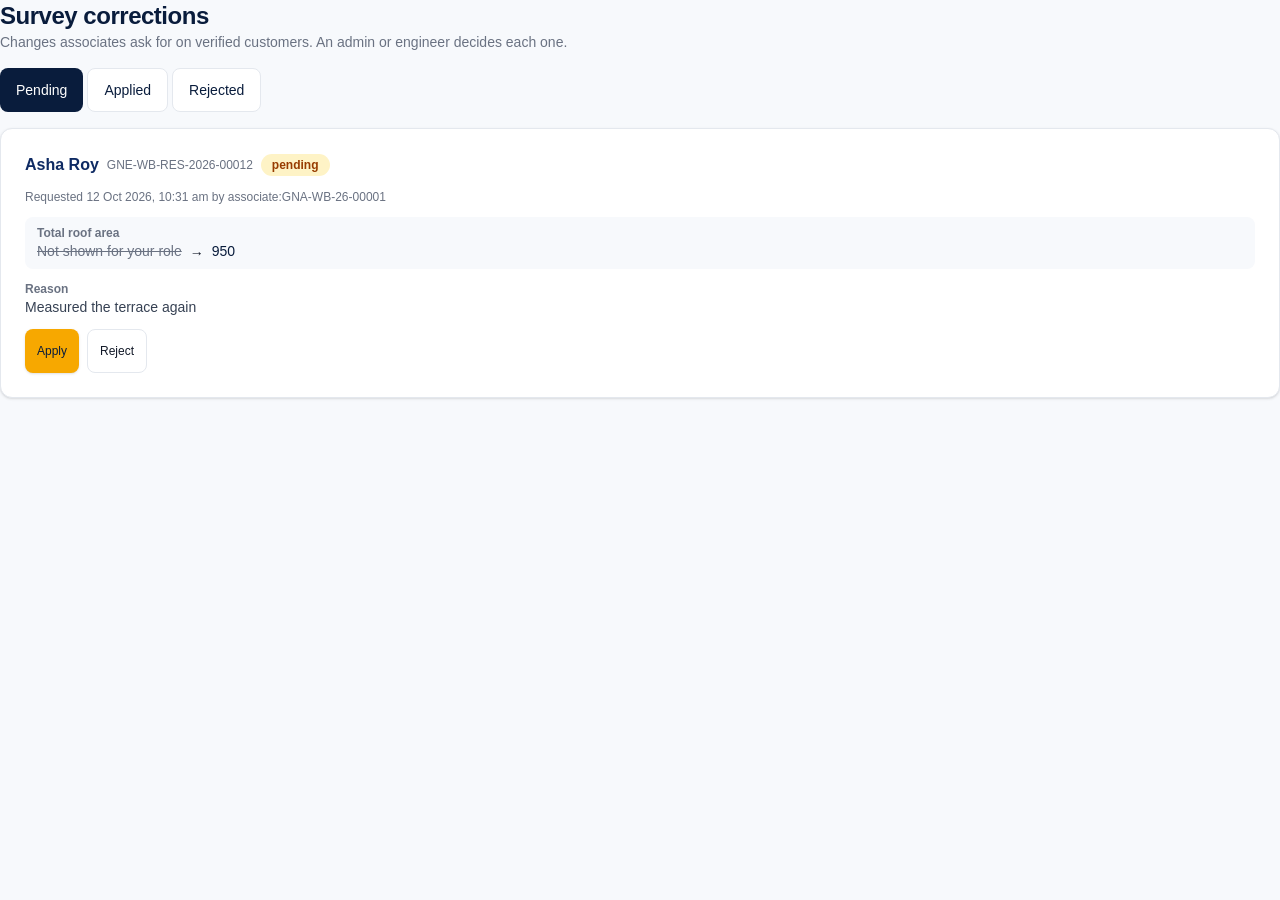
Test case: Survey corrections queue › maps the 403 segregation_of_duties and 409 correction_not_pending errors to plain sentences
Click the button "Apply". click: [52, 351]
box: [25, 329, 79, 373]
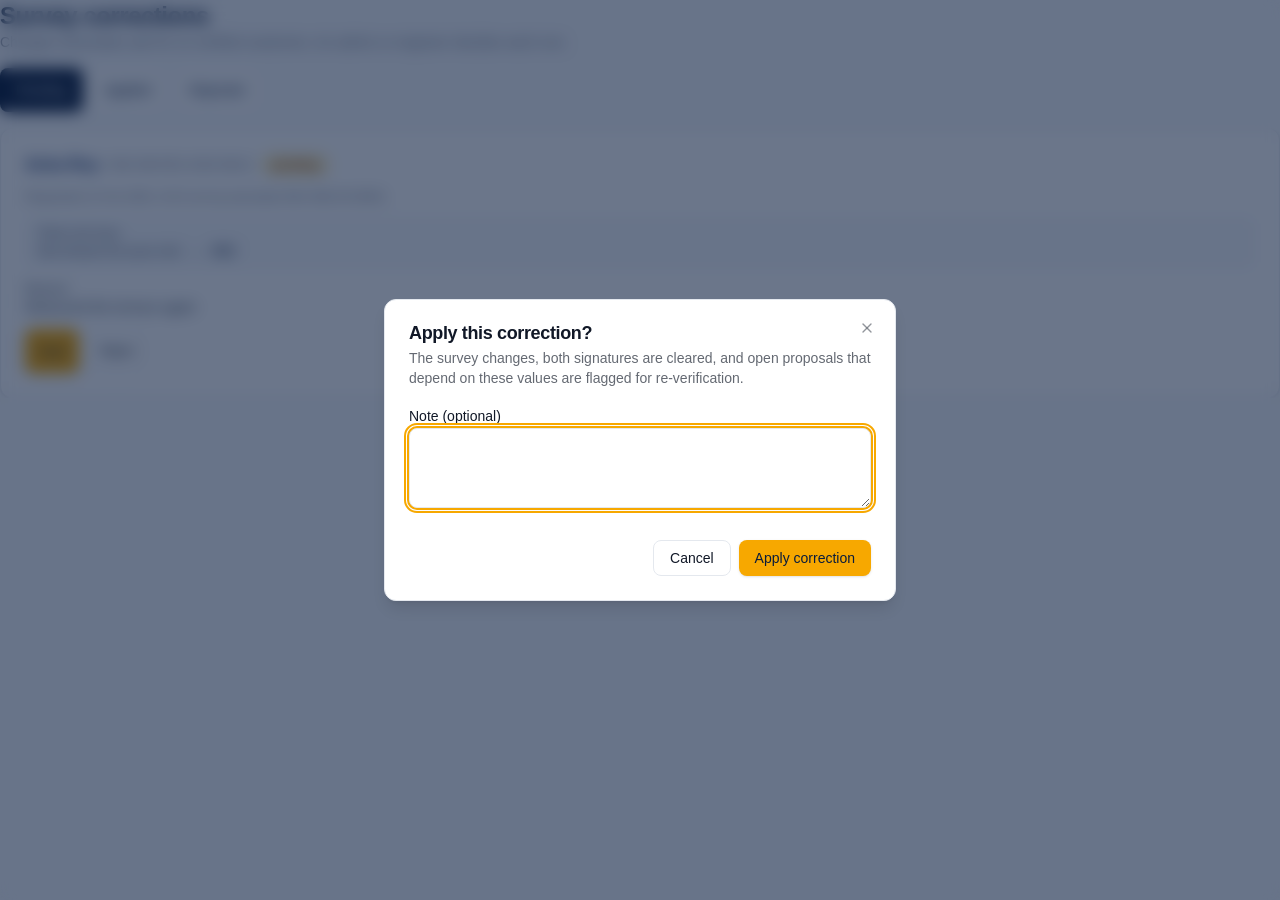
Click the button "Apply correction". click: [805, 558]
box: [739, 540, 871, 576]
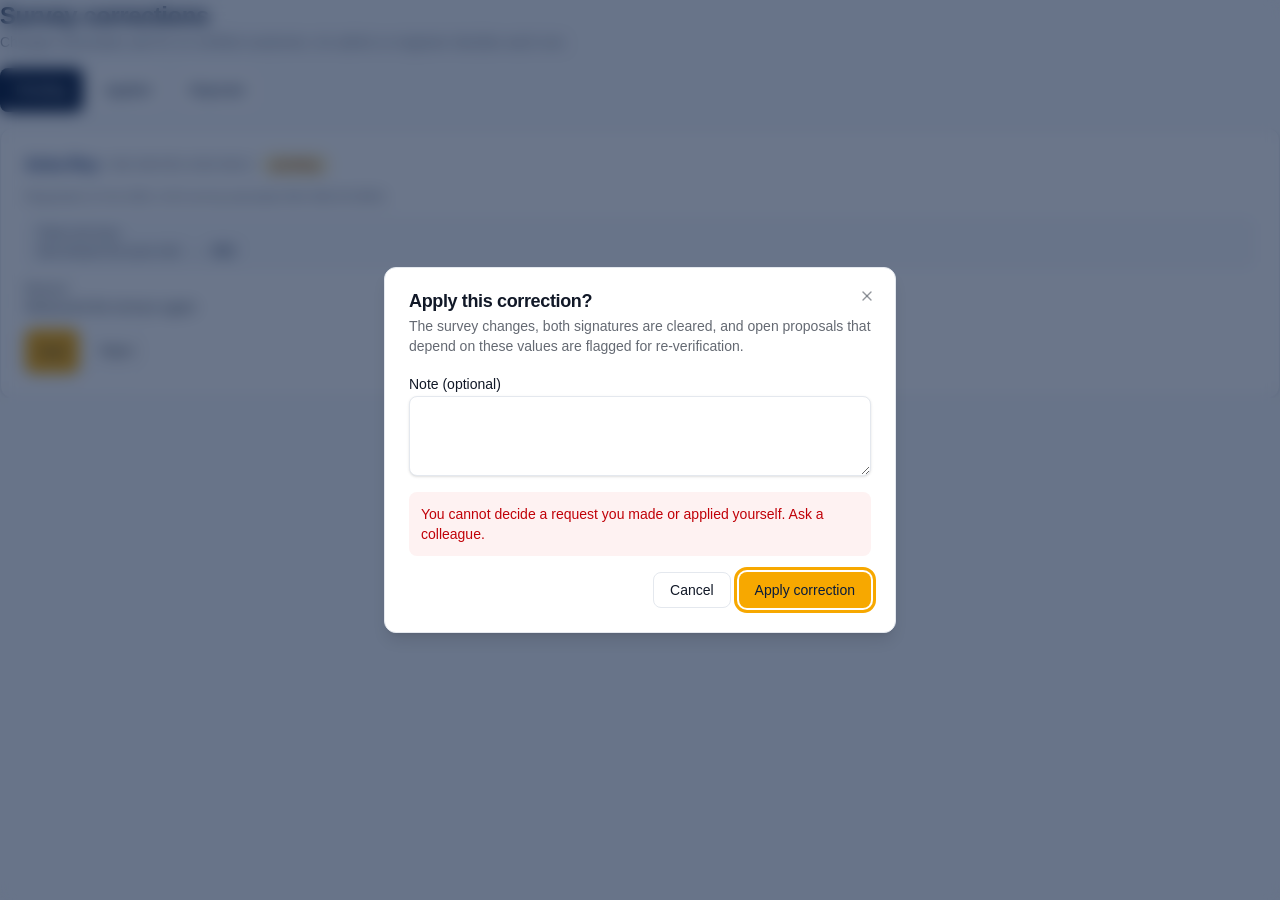
Expected: the message with test id "decide-error" shows "cannot decide a request you made", [421, 506, 824, 542]
Click the button "Apply correction". click: [805, 590]
box: [739, 572, 871, 608]
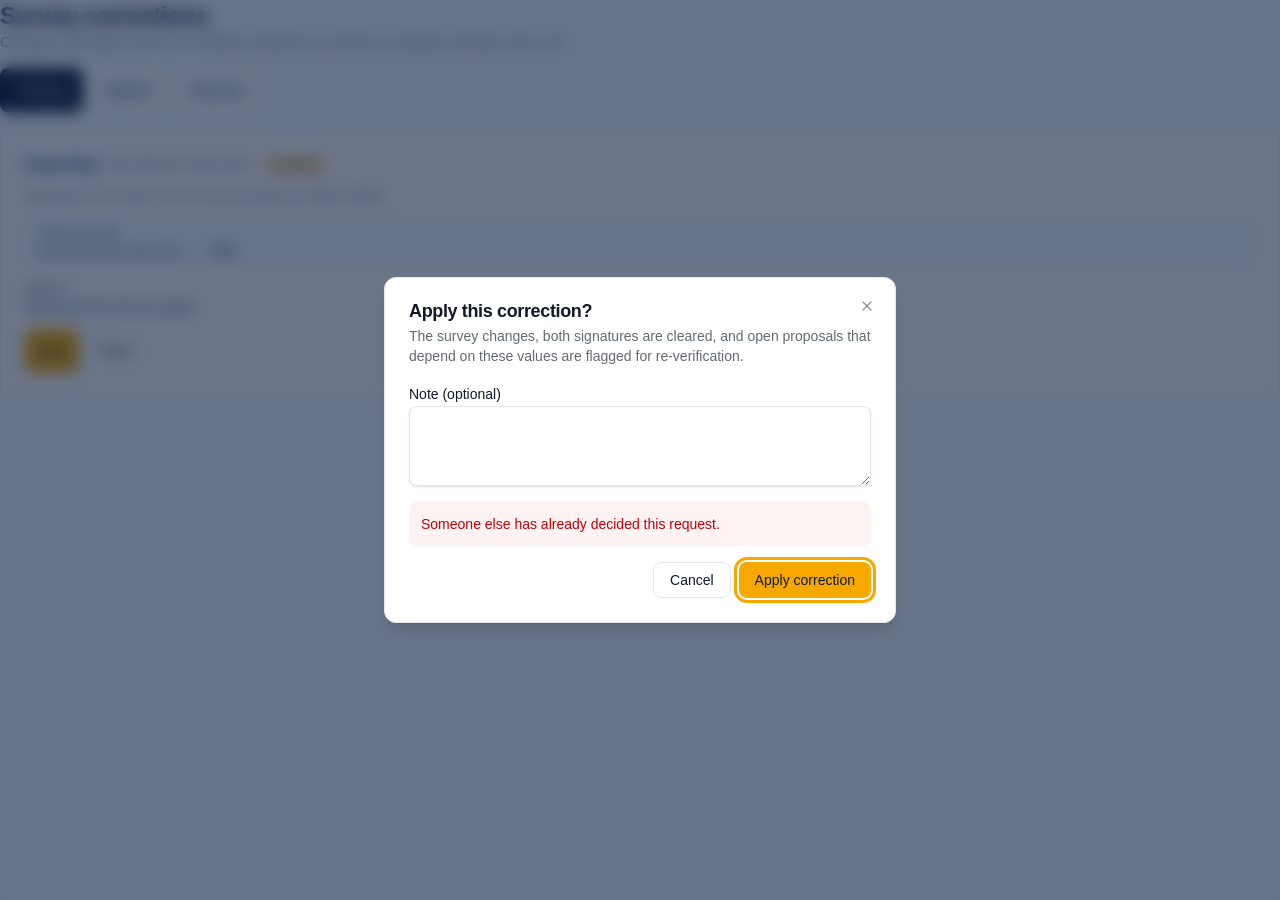
Expected: the message with test id "decide-error" shows "already decided", [421, 516, 720, 532]
